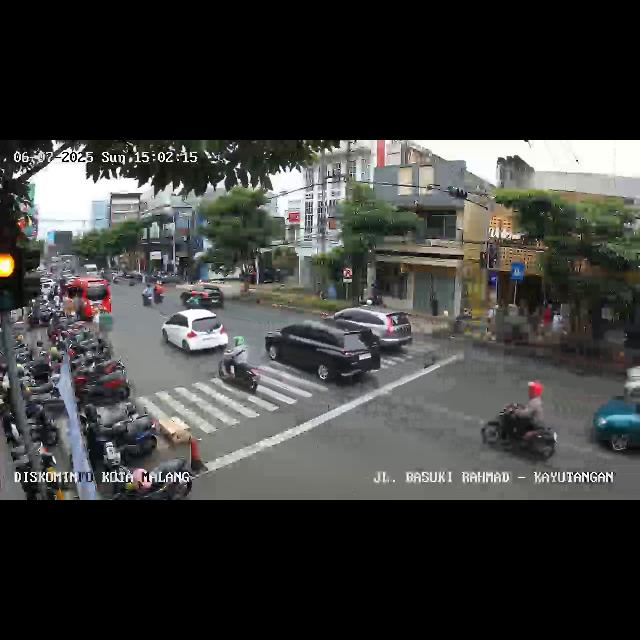car: (266, 320, 386, 388), (322, 307, 418, 357), (588, 386, 640, 462), (161, 308, 231, 360), (61, 278, 113, 322), (184, 282, 226, 310)
motorcycle: (482, 386, 562, 466), (218, 335, 262, 393), (140, 280, 156, 308)
